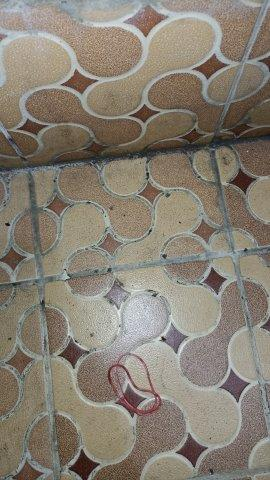karet: (108, 353, 162, 416)
